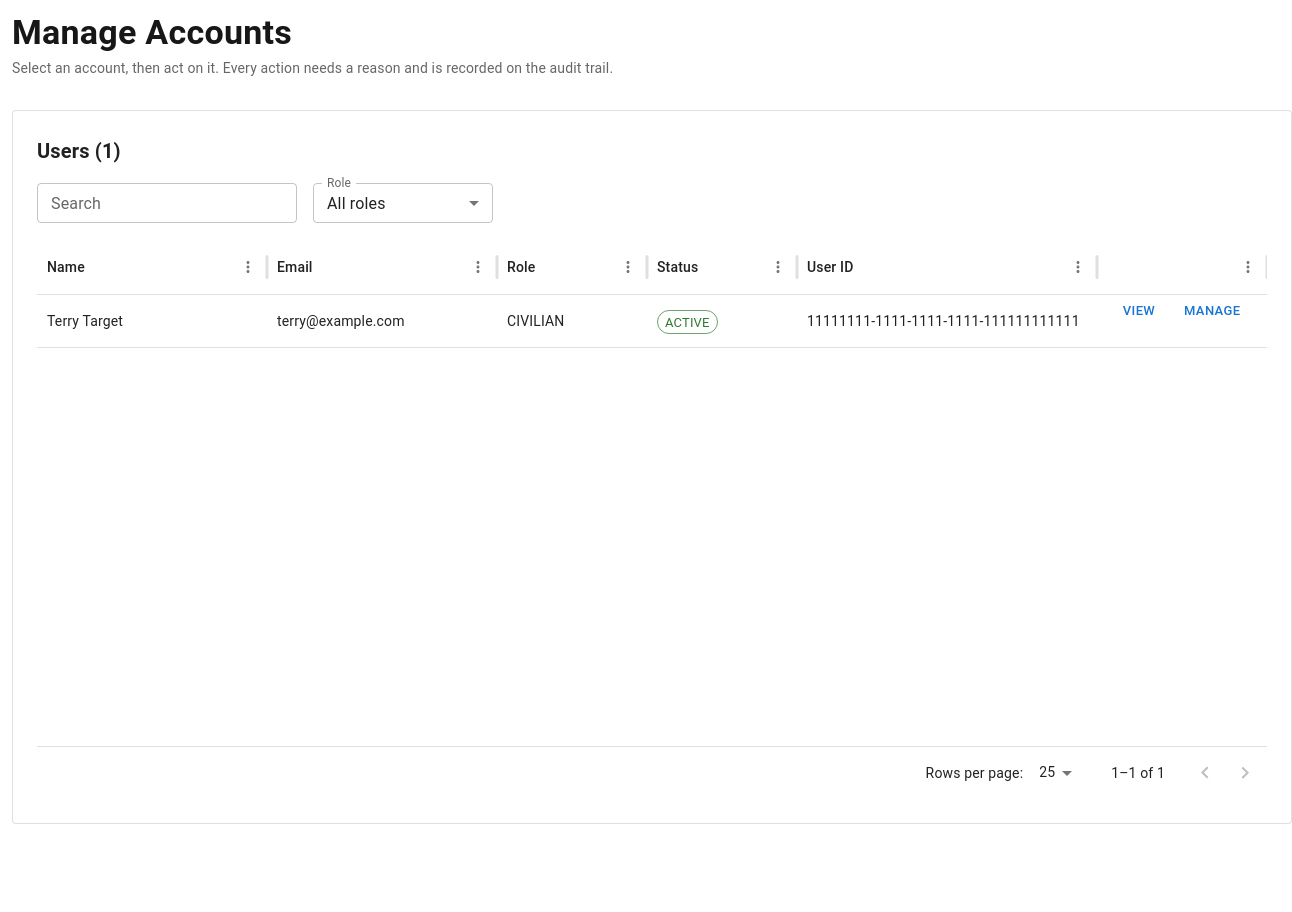
Scenario: SecurityAccountPage › filters out the row when the role filter doesn't match
The image size is (1292, 912).
Press the mouse on the dropdown labelled "role" at (356, 203), box [327,194,386,212]
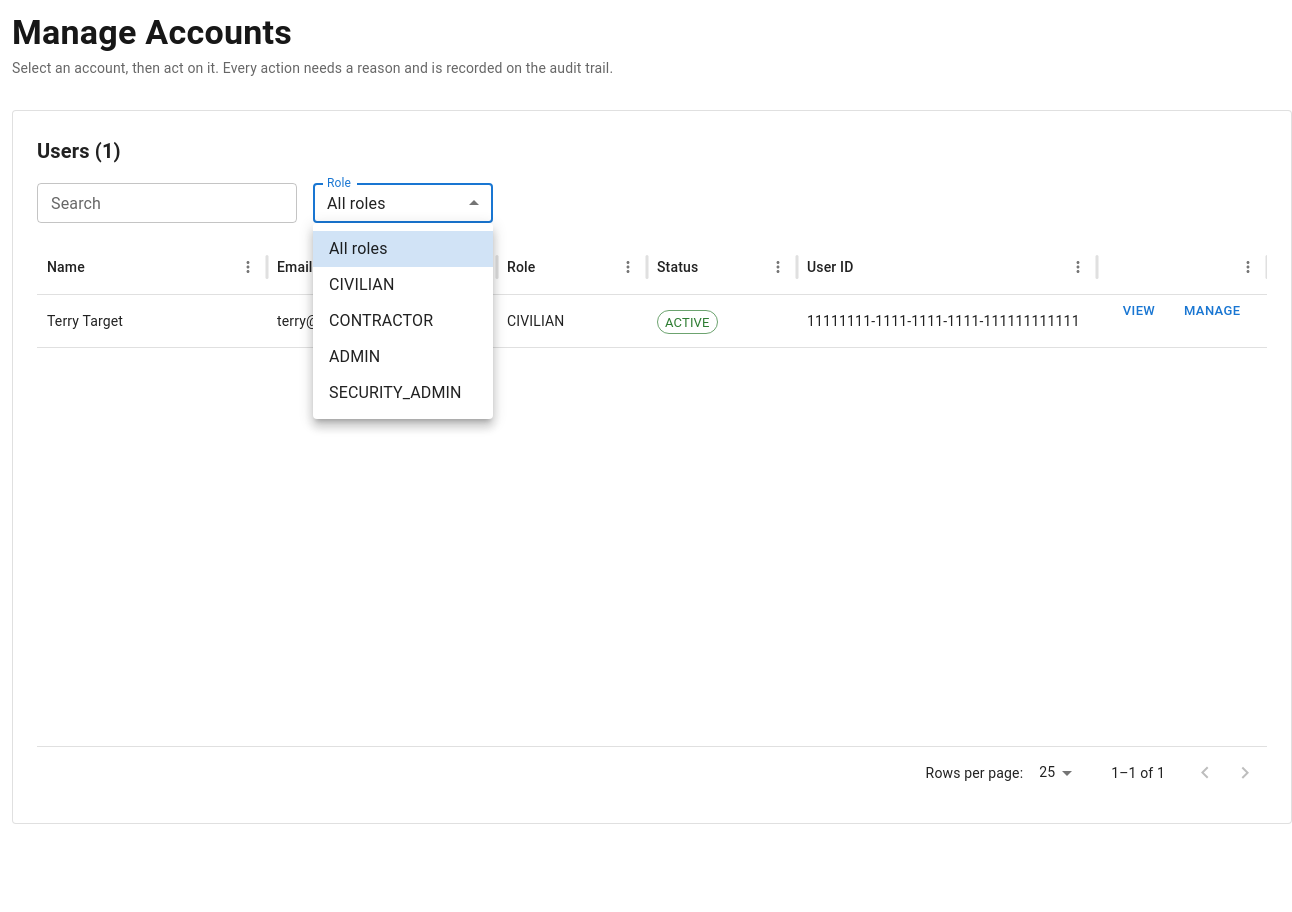
Click the option "CONTRACTOR" at (381, 320), box [329,311,433,330]
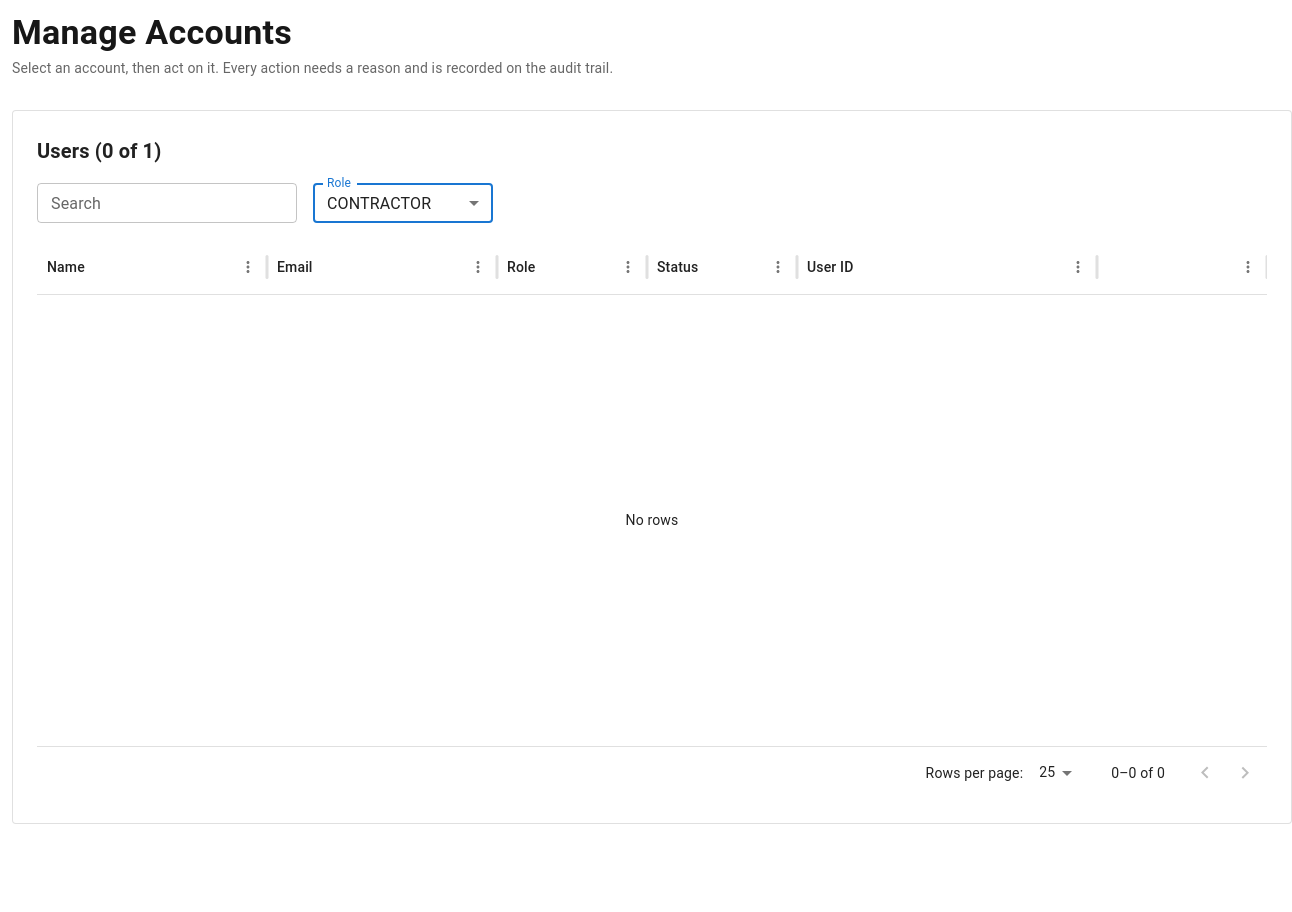
Check: the text "Terry Target" is gone
